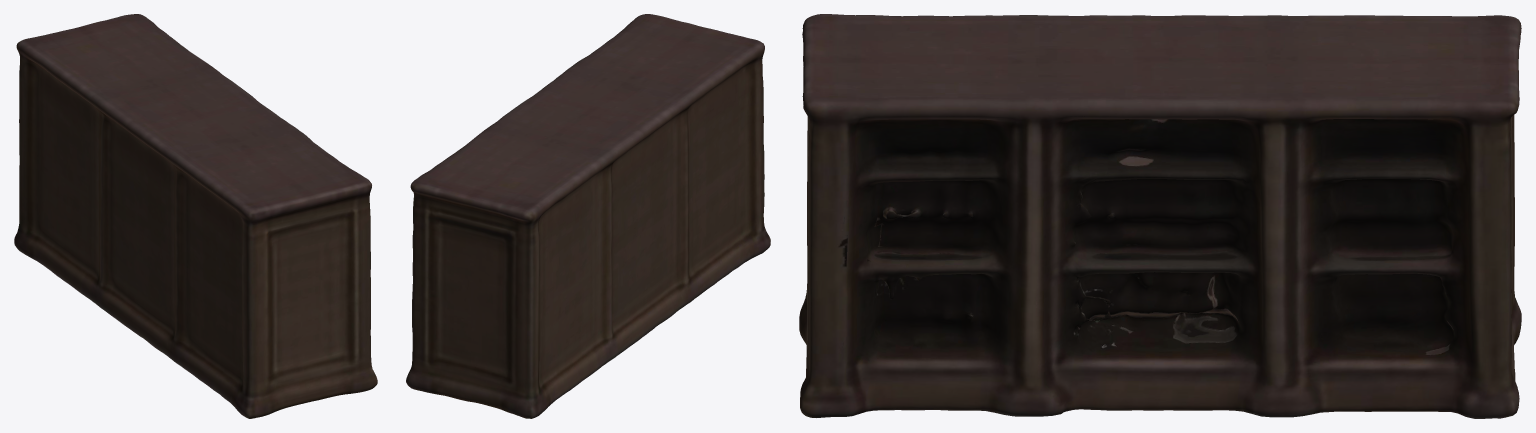
Rendered from shoes.obj.
3 views of the same model, side by side, from view 1: azimuth 30°, elevation 25°; view 2: azimuth 150°, elevation 25°; view 3: azimuth 270°, elevation 25° (orthographic). The views are drawn at different scales.
Parts seen in each view (by area): view 1: mesh; view 2: mesh; view 3: mesh.
Boxes of the visible parts, left/top/right/bottom form: mesh: left=14, top=14, right=377, bottom=418; mesh: left=406, top=14, right=770, bottom=418; mesh: left=799, top=14, right=1521, bottom=418.
Bounding box in the file's own units: 0.322 × 0.4823 × 0.9996.
1 material, 1 textured.
